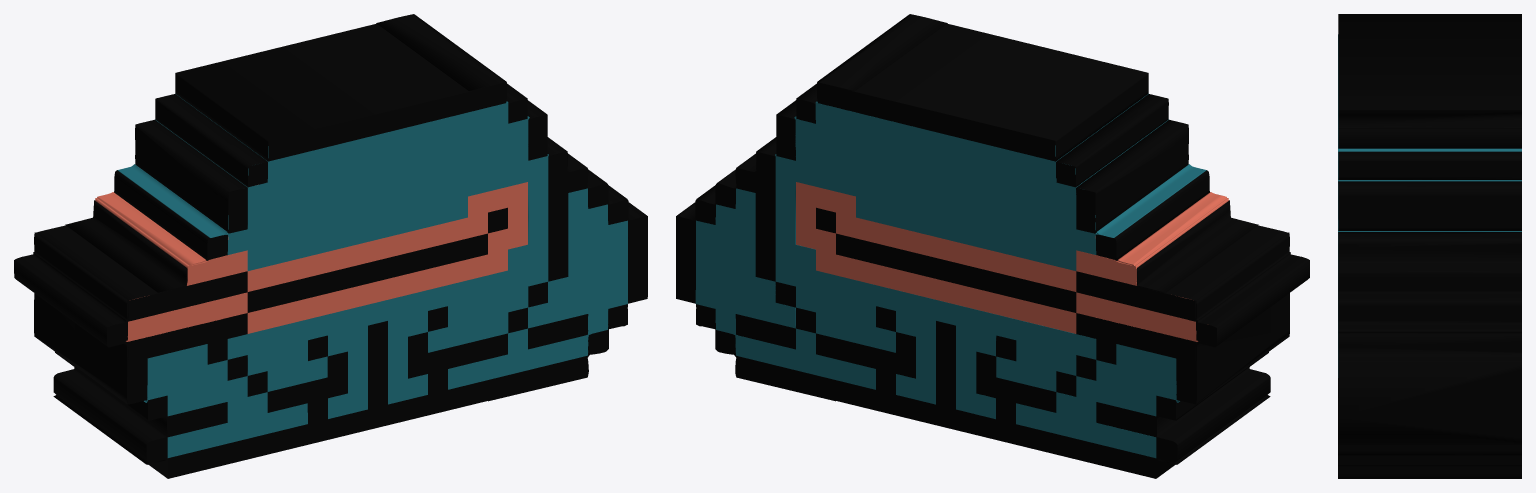
File: Toadz_5481.glb
The picture shows the model from 3 angles, left to right: view 1: azimuth 30°, elevation 25°; view 2: azimuth 150°, elevation 25°; view 3: azimuth 270°, elevation 25°; orthographic projection.
Parts seen in each view (by area): view 1: Curve; view 2: Curve; view 3: Curve.
Part boxes in pixels (x1=…): Curve: x1=14, y1=14, x2=647, y2=478; Curve: x1=676, y1=14, x2=1309, y2=478; Curve: x1=1338, y1=14, x2=1521, y2=478.
Bounding box in the file's own units: 3.36 × 1.87 × 1.
